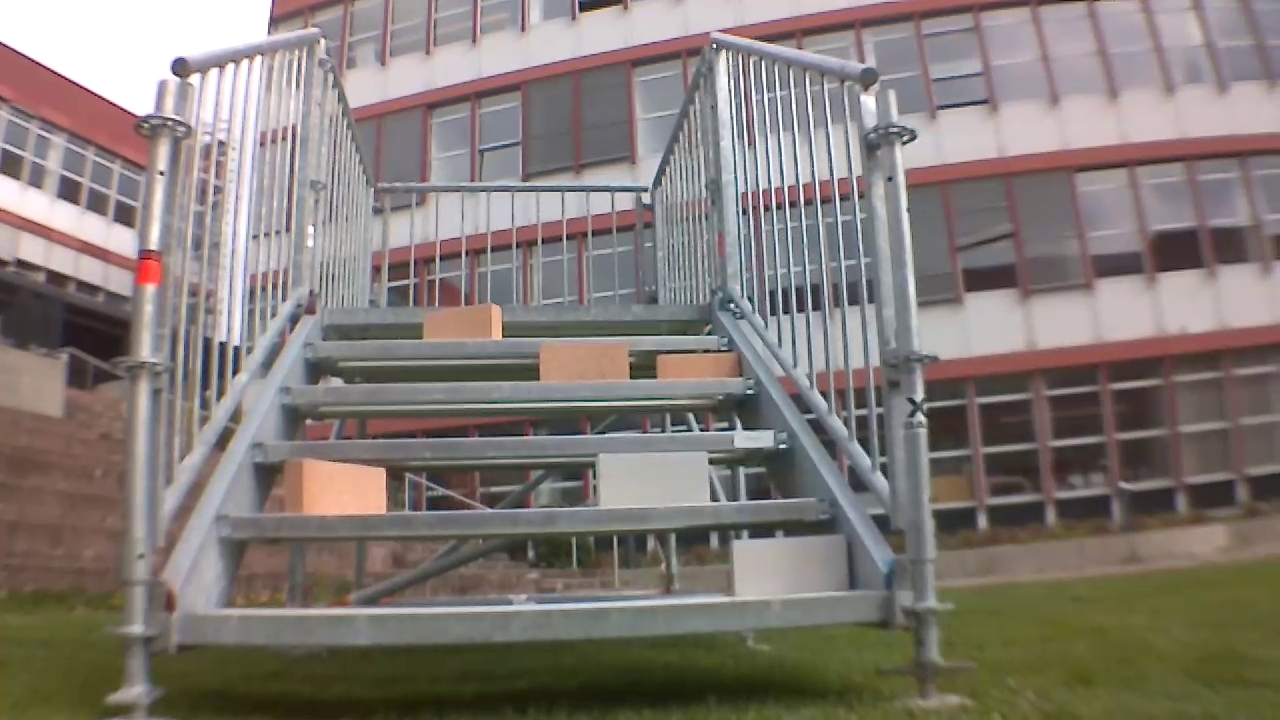brick: (731, 535, 847, 595), (596, 453, 706, 505), (284, 458, 385, 514), (540, 342, 629, 381), (423, 303, 501, 338), (658, 353, 737, 377)
edge: (175, 591, 886, 642), (217, 499, 829, 537), (250, 431, 796, 455), (277, 377, 755, 401), (300, 336, 731, 358), (323, 304, 711, 321)
stairs: (102, 29, 976, 718)
steps: (161, 298, 892, 650)
